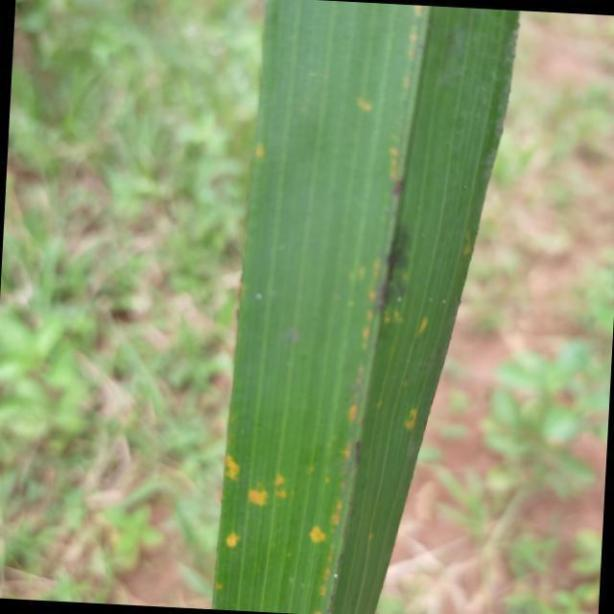Kalium: (210, 0, 516, 614)
